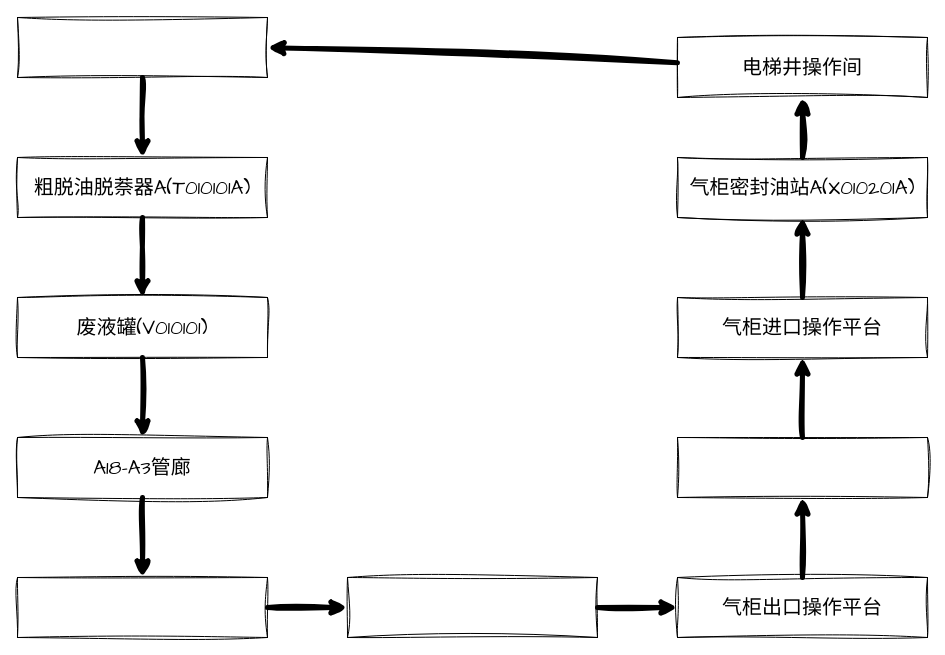
Image size: 945x655. Some labels were removed from this diagram. The box of each missing label's shape, as (x1, y1, x2, y2) in pixels:
气柜密封油站B(X010201B): (16, 576, 268, 638)
气柜密封油站C(X010201C): (346, 576, 598, 638)
气柜密封油站D(X010201D): (676, 436, 928, 498)
粗脱油脱萘器E(T010101E): (16, 16, 268, 78)
